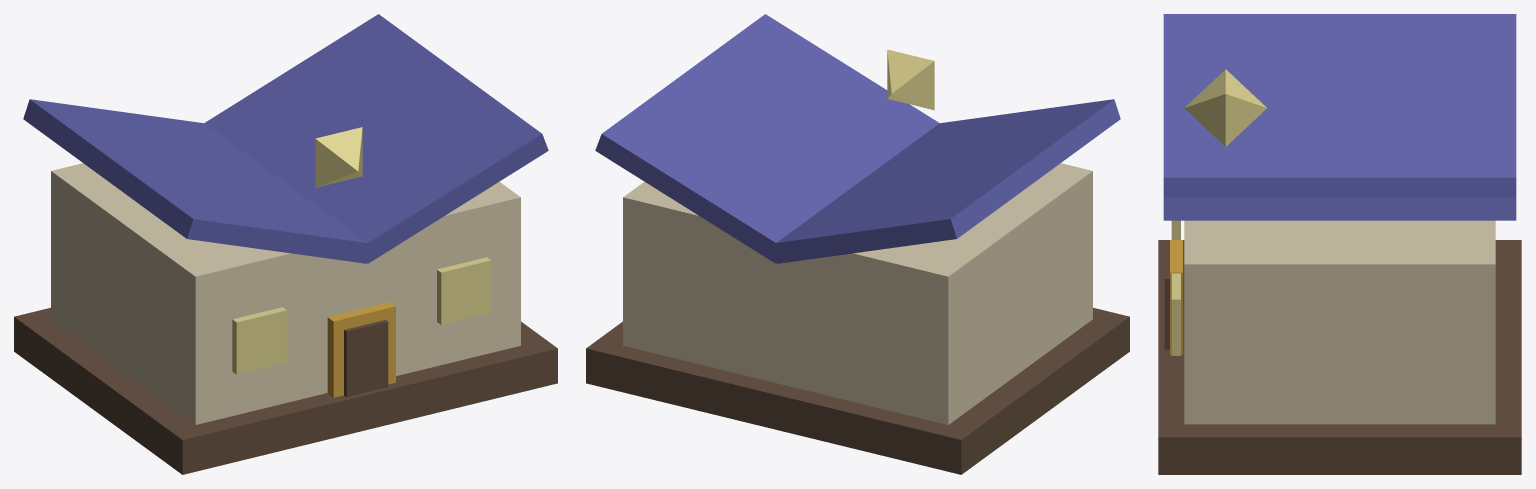
The model's file is star_learning_hall.glb.
3 renders of one model, left to right at view 1: azimuth 30°, elevation 25°; view 2: azimuth 150°, elevation 25°; view 3: azimuth 270°, elevation 25°, orthographic. The views are drawn at different scales.
Parts seen in each view (by area): view 1: main_hall, roof_right, foundation, roof_left, window_-245, window_245, door, door_frame, star_emblem; view 2: main_hall, roof_right, foundation, roof_left, star_emblem; view 3: main_hall, roof_left, foundation, roof_right, star_emblem, window_245, door_frame, door.
Part boxes in pixels (x1=…): main_hall: x1=51, y1=163, x2=520, y2=424; roof_right: x1=204, y1=14, x2=548, y2=263; foundation: x1=14, y1=307, x2=557, y2=474; roof_left: x1=23, y1=99, x2=373, y2=263; window_-245: x1=232, y1=307, x2=286, y2=374; window_245: x1=437, y1=257, x2=491, y2=324; door: x1=344, y1=319, x2=388, y2=397; door_frame: x1=327, y1=302, x2=395, y2=397; star_emblem: x1=315, y1=127, x2=362, y2=187; main_hall: x1=623, y1=163, x2=1092, y2=424; roof_right: x1=595, y1=14, x2=939, y2=263; foundation: x1=586, y1=307, x2=1129, y2=474; roof_left: x1=770, y1=99, x2=1120, y2=263; star_emblem: x1=887, y1=49, x2=934, y2=110; main_hall: x1=1184, y1=220, x2=1495, y2=424; roof_left: x1=1163, y1=14, x2=1516, y2=177; foundation: x1=1158, y1=240, x2=1521, y2=474; roof_right: x1=1163, y1=177, x2=1516, y2=220; star_emblem: x1=1184, y1=69, x2=1266, y2=146; window_245: x1=1171, y1=273, x2=1180, y2=355; door_frame: x1=1170, y1=240, x2=1182, y2=354; door: x1=1164, y1=257, x2=1169, y2=349.
Bounding box in the file's own units: 9 × 6.27 × 7.
